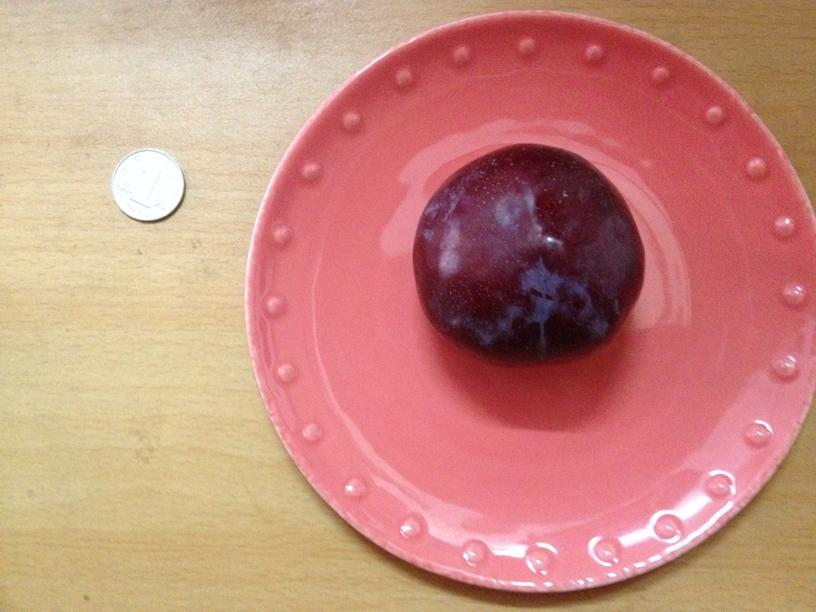coin: (109, 146, 186, 223)
plum: (411, 141, 648, 362)
